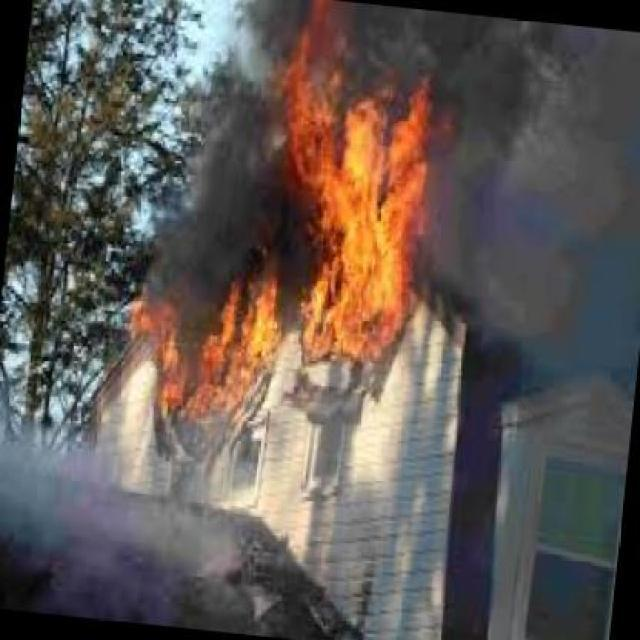Fire: (282, 9, 436, 368), (142, 269, 284, 422)
Smoke: (438, 17, 640, 351), (1, 436, 278, 624), (157, 104, 281, 272), (357, 11, 536, 83)
